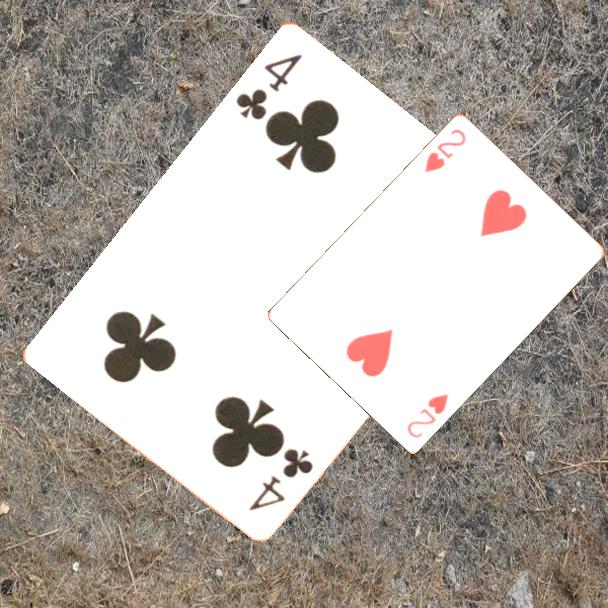c04: (232, 49, 305, 123), (245, 444, 316, 514)
h02: (403, 390, 451, 441), (421, 125, 469, 175)
